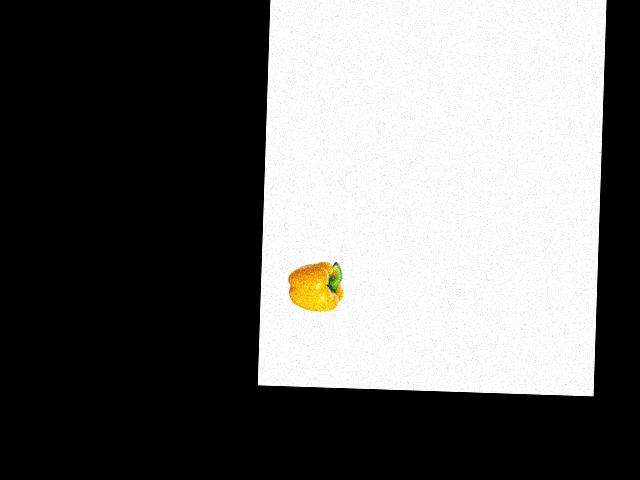bell_pepper: (284, 254, 349, 316)
